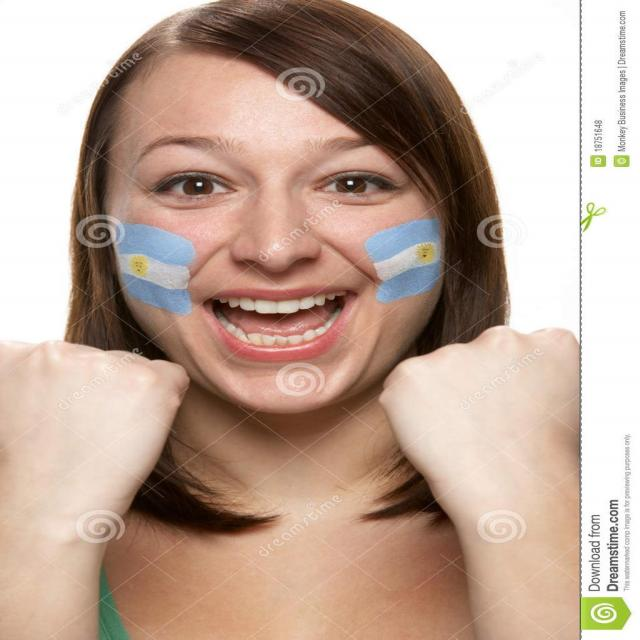nomask: (97, 105, 438, 413)
